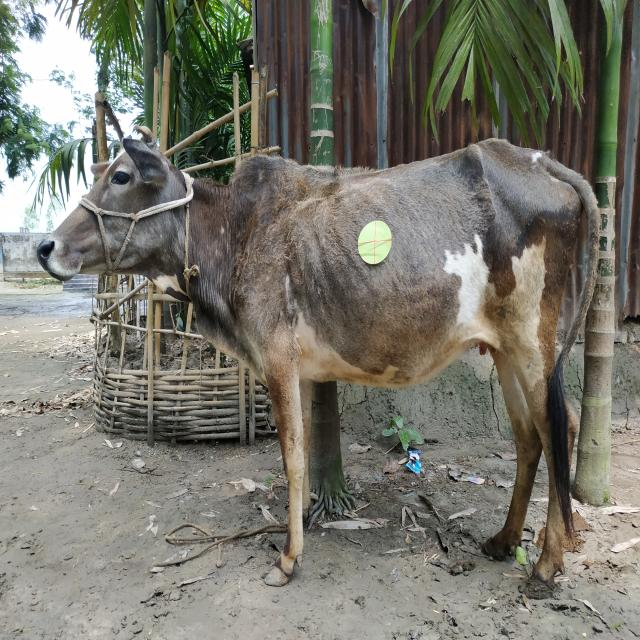badan_sapi: (235, 161, 586, 380)
sapi: (34, 129, 601, 609)
